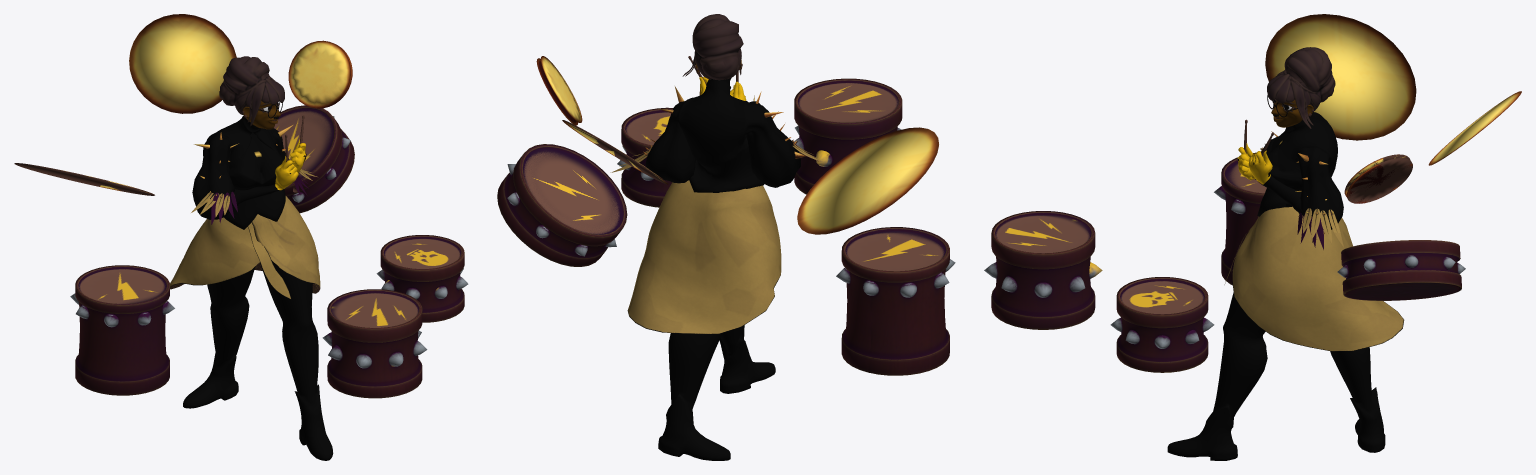
Rendered from RENDER_ABBY_Cute.fbx.
3 renders of one model, left to right at view 1: azimuth 30°, elevation 25°; view 2: azimuth 150°, elevation 25°; view 3: azimuth 270°, elevation 25°, orthographic. The views are drawn at different scales.
Parts seen in each view (by area): view 1: SM_Drums_01.001, SM_Abby_Body_01.001, SM_Abby_Cloth_01.001, SM_Abby_Hair_01.001, SM_Abby_Outline_01; view 2: SM_Drums_01.001, SM_Abby_Body_01.001, SM_Abby_Cloth_01.001, SM_Abby_Hair_01.001, SM_Abby_Outline_01; view 3: SM_Drums_01.001, SM_Abby_Body_01.001, SM_Abby_Cloth_01.001, SM_Abby_Hair_01.001, SM_Abby_Outline_01.
Boxes of the visible parts, <box> form: SM_Drums_01.001: <box>62,14,468,398</box>; SM_Abby_Body_01.001: <box>183,101,333,460</box>; SM_Abby_Cloth_01.001: <box>170,105,320,299</box>; SM_Abby_Hair_01.001: <box>219,56,284,126</box>; SM_Abby_Outline_01: <box>14,101,320,293</box>; SM_Drums_01.001: <box>497,56,955,375</box>; SM_Abby_Body_01.001: <box>645,60,805,460</box>; SM_Abby_Cloth_01.001: <box>610,140,824,334</box>; SM_Abby_Hair_01.001: <box>682,14,743,80</box>; SM_Abby_Outline_01: <box>563,84,818,184</box>; SM_Drums_01.001: <box>984,14,1521,372</box>; SM_Abby_Body_01.001: <box>1167,99,1385,460</box>; SM_Abby_Cloth_01.001: <box>1224,103,1404,351</box>; SM_Abby_Hair_01.001: <box>1267,47,1335,128</box>; SM_Abby_Outline_01: <box>1233,95,1412,261</box>.
Bounding box in the file's own units: 148 × 144 × 179.
